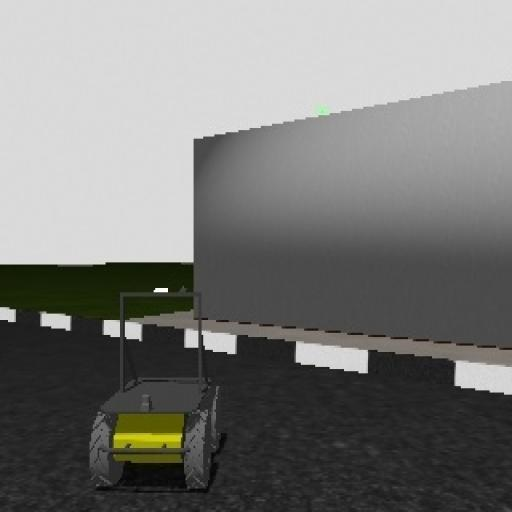huskya200: (76, 275, 231, 494)
